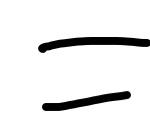eqv: (39, 37, 150, 111)
